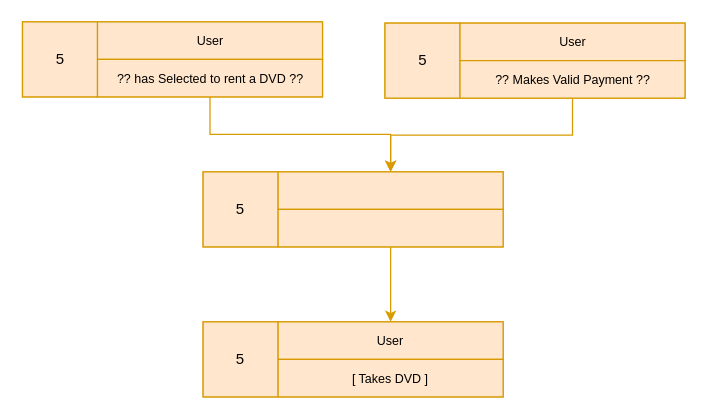
Image size: 706x419. Some labels were removed from this diagram. Each missing label, with the centre of its shape:
"[ Dispenses the DVD ]" goes at (390,227).
"Kiosk" goes at (390,190).
